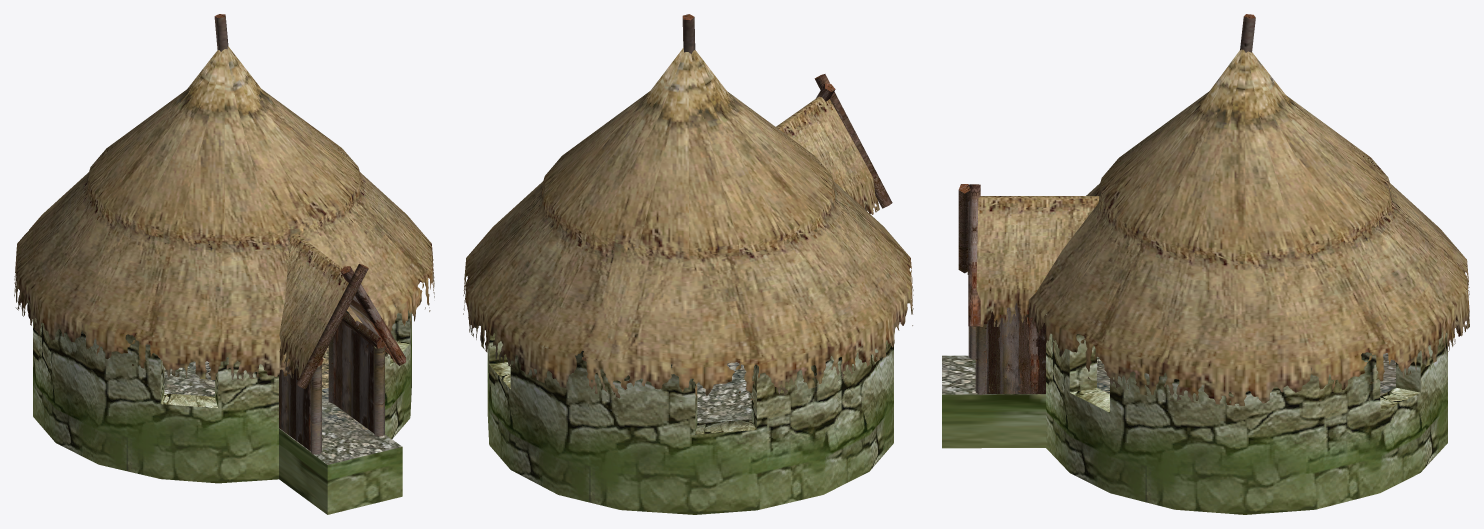
The model's file is building_hovel1.glb.
3 renders of one model, left to right at view 1: azimuth 30°, elevation 25°; view 2: azimuth 150°, elevation 25°; view 3: azimuth 270°, elevation 25°, orthographic. The views are drawn at different scales.
Visible parts, largest first — view 1: building_hovel1; view 2: building_hovel1; view 3: building_hovel1.
Boxes of the visible parts, x1,y1,x2,y2 form: building_hovel1: [14, 14, 434, 514]; building_hovel1: [463, 14, 913, 514]; building_hovel1: [942, 14, 1469, 514].
Bounding box in the file's own units: 4.81 × 4.8 × 5.56.
Materials: 5 (5 with a texture image).
